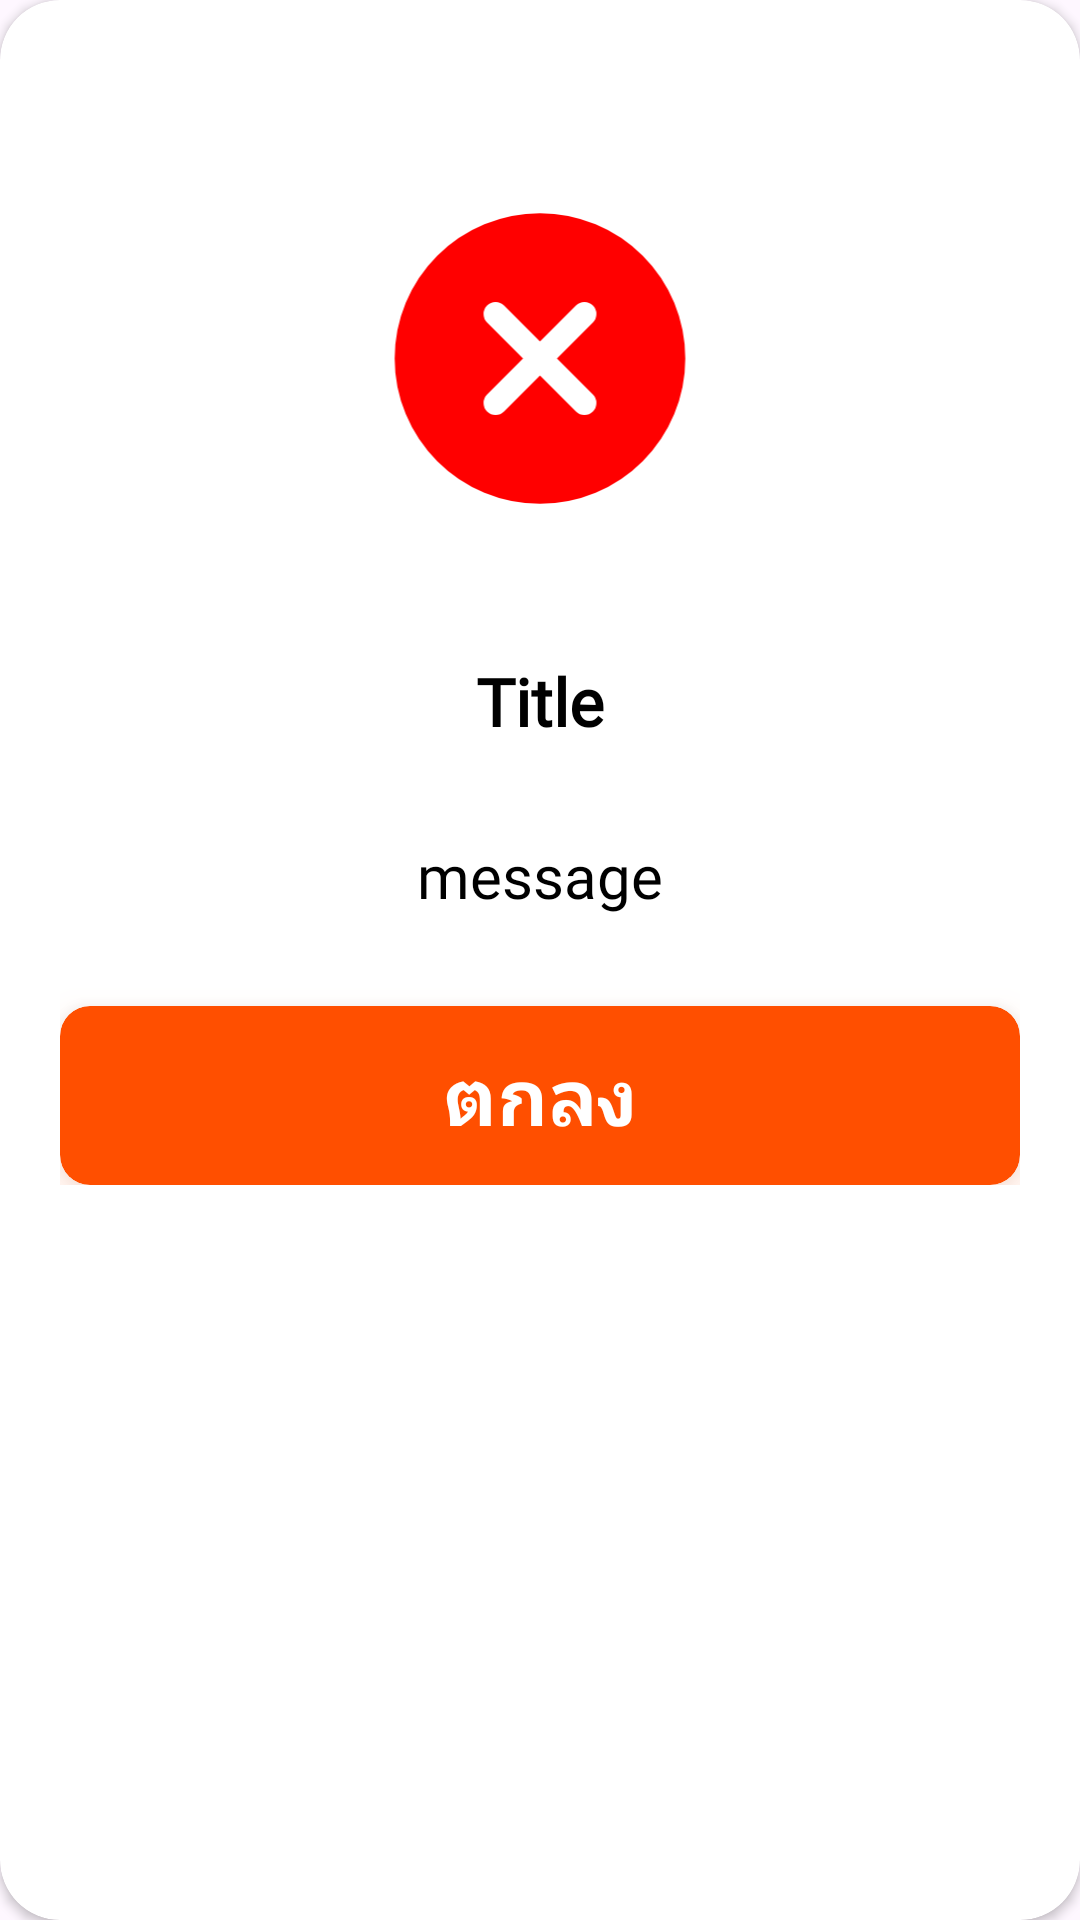

Icons on this 1080px×1920px Android screen, each with its box as {"x1": x1, "y1": y1, "x2": x2, "y2": y2}:
error: {"x1": 394, "y1": 213, "x2": 686, "y2": 504}
